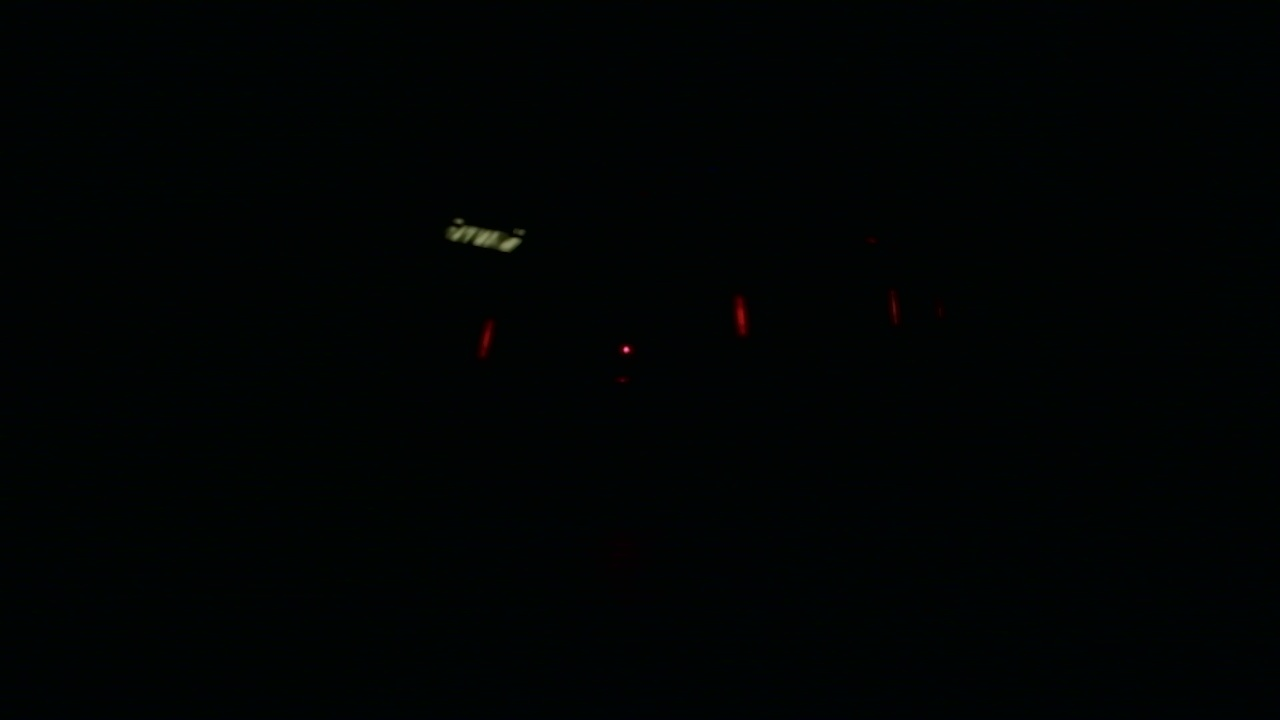lamp: (731, 294, 756, 330), (472, 325, 492, 362)
notpair2: (474, 290, 756, 358)
pair2: (731, 293, 902, 333)
